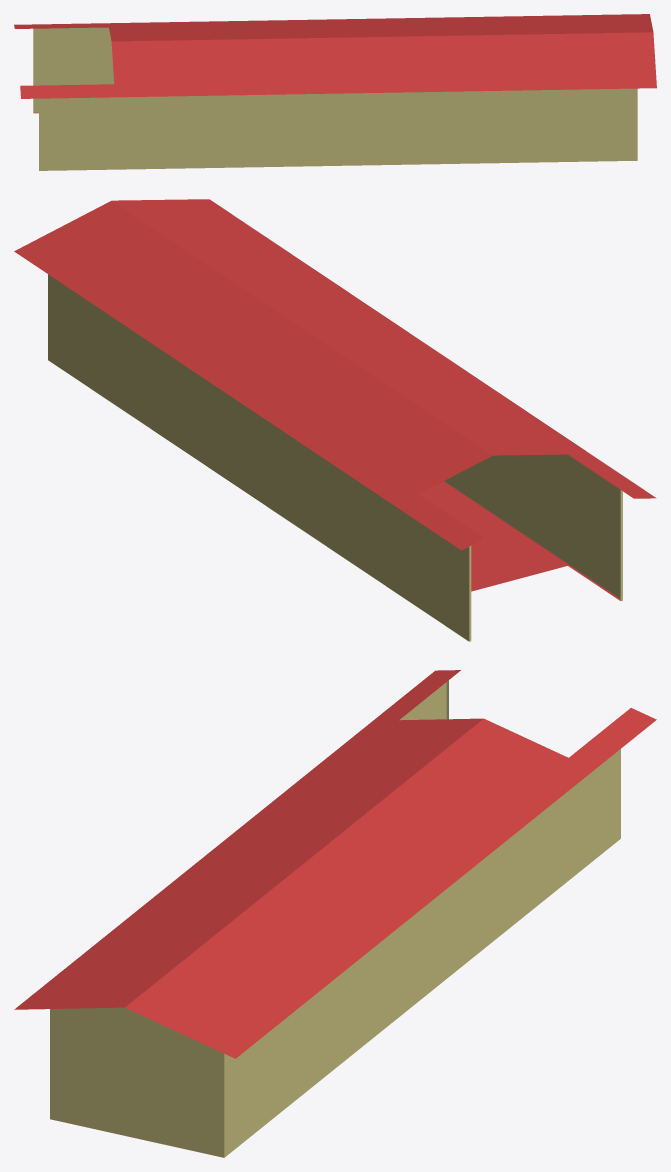
The picture shows the model from 3 angles, top to bottom: view 1: azimuth 30°, elevation 25°; view 2: azimuth 150°, elevation 25°; view 3: azimuth 270°, elevation 25°; orthographic projection. The views are drawn at different scales.
Bounding box in the file's own units: 51.69 × 36.17 × 8.75.
